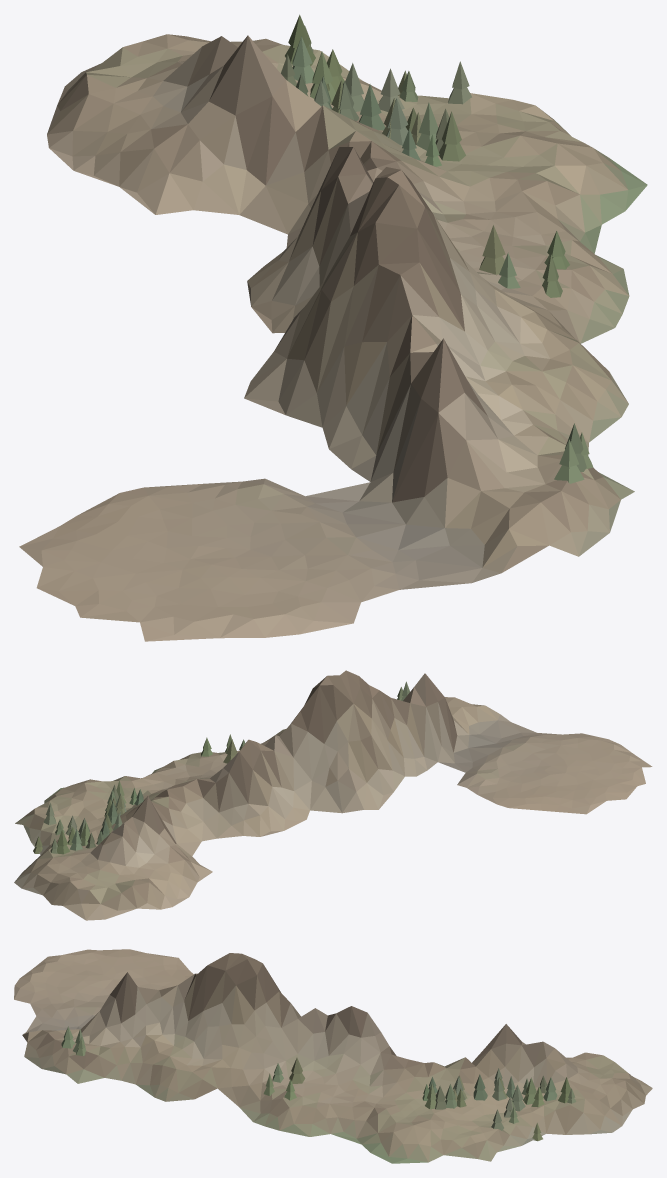
File: range_lvliang.glb
The picture shows the model from 3 angles, top to bottom: view 1: azimuth 30°, elevation 25°; view 2: azimuth 150°, elevation 25°; view 3: azimuth 270°, elevation 25°; orthographic projection. The views are drawn at different scales.
Visible parts, largest first — view 1: range_lvliang, trees_lvliang; view 2: range_lvliang, trees_lvliang; view 3: range_lvliang, trees_lvliang.
Boxes of the visible parts, box(x1,y1,x2,y2) form: range_lvliang: box(19, 34, 647, 641); trees_lvliang: box(281, 14, 593, 483); range_lvliang: box(14, 670, 652, 920); trees_lvliang: box(33, 681, 409, 854); range_lvliang: box(14, 949, 652, 1163); trees_lvliang: box(61, 1026, 576, 1141).
Bounding box in the file's own units: 123 × 29.76 × 155.
